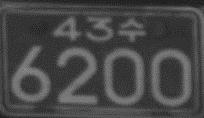0: (149, 47, 193, 107), (101, 46, 145, 105)
2: (55, 44, 98, 105)
3: (85, 15, 114, 42)
4: (52, 14, 82, 42)
6: (9, 44, 51, 103)
수: (118, 16, 146, 43)
